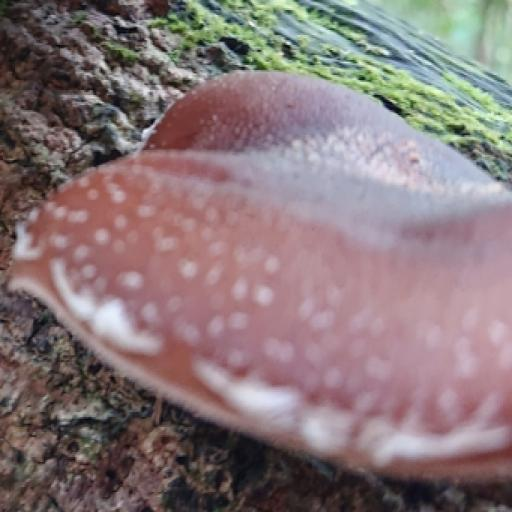Shiitake Mushroom: (0, 43, 512, 476)
